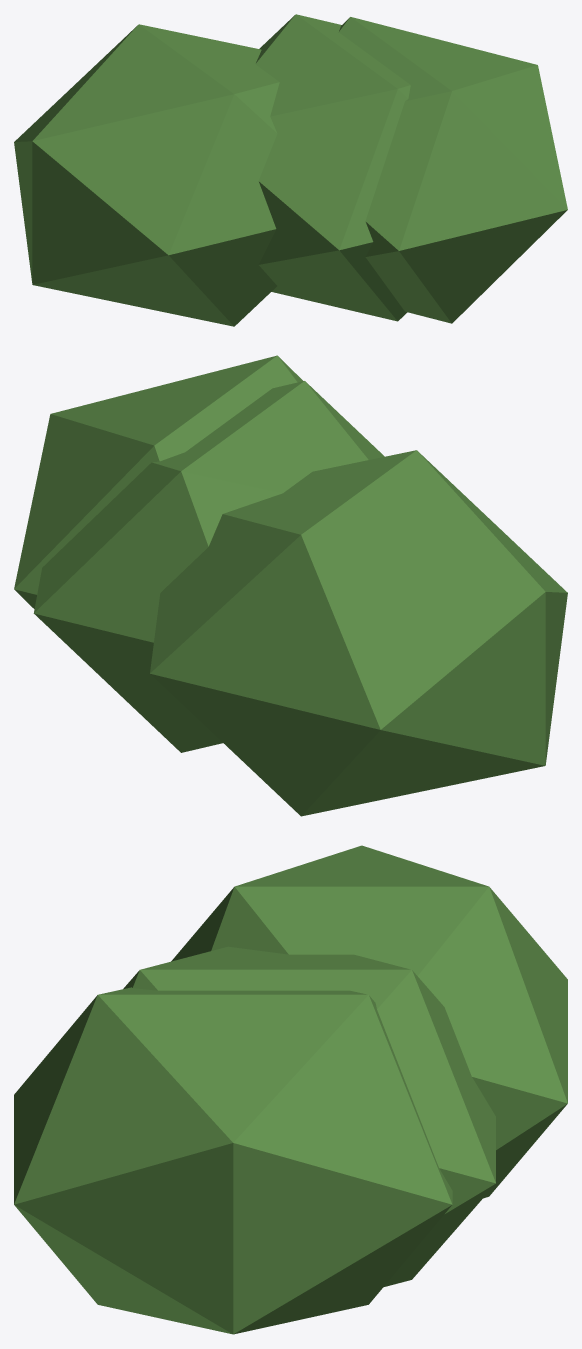
File: Cali_2_Hafif.fbx
The picture shows the model from 3 angles, top to bottom: view 1: azimuth 30°, elevation 25°; view 2: azimuth 150°, elevation 25°; view 3: azimuth 270°, elevation 25°; orthographic projection. The views are drawn at different scales.
Visible parts, largest first — view 1: Cali_2_Hafif; view 2: Cali_2_Hafif; view 3: Cali_2_Hafif.
Part boxes in pixels (bbox=[...]): Cali_2_Hafif: bbox=[14, 14, 567, 326]; Cali_2_Hafif: bbox=[14, 355, 567, 816]; Cali_2_Hafif: bbox=[14, 845, 567, 1334].
Size of the model in its own units: 1.47 by 0.7145 by 1.16.
